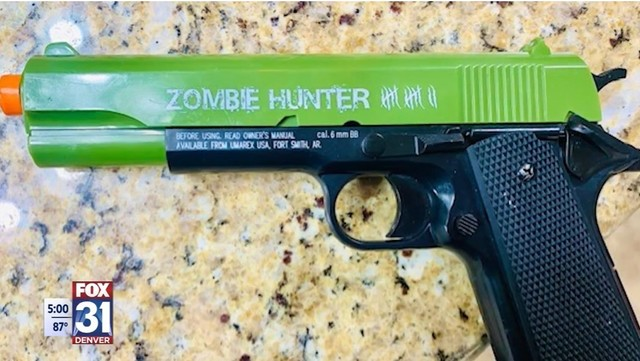Arma Falsa: (1, 41, 640, 344)
